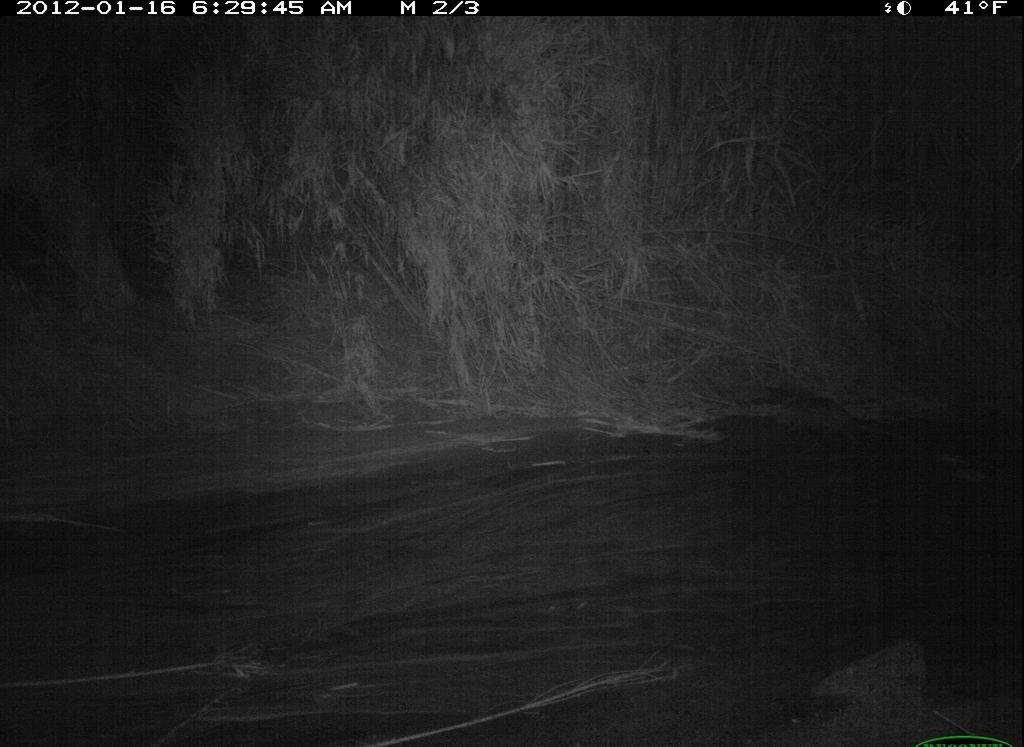opossum: (761, 391, 917, 459)
